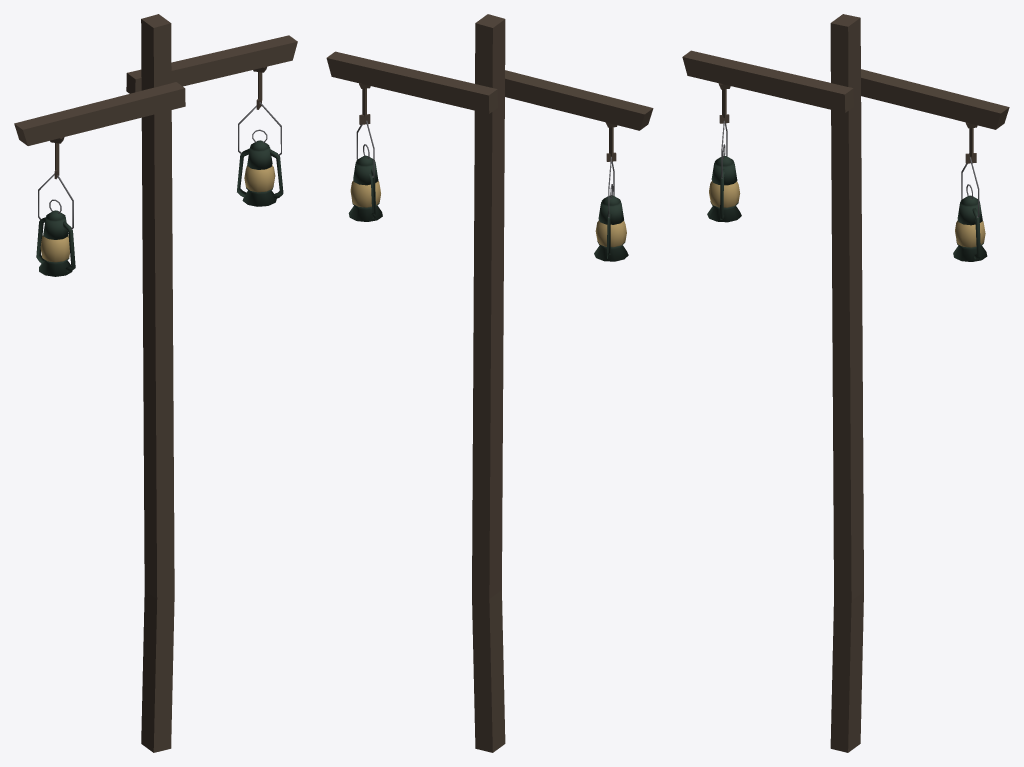
File: Street Light.glb
3 views of the same model, side by side, from view 1: azimuth 30°, elevation 25°; view 2: azimuth 150°, elevation 25°; view 3: azimuth 330°, elevation 25° (orthographic).
Visible parts, largest first — view 1: Street Light; view 2: Street Light; view 3: Street Light.
Part boxes in pixels (left/top/right/bottom): Street Light: left=14, top=14, right=297, bottom=752; Street Light: left=326, top=14, right=653, bottom=752; Street Light: left=682, top=14, right=1009, bottom=752.
Size of what is drawn, in the model's own units: 2.12 by 4.96 by 0.5038.
Materials: 1 (1 with a texture image).
